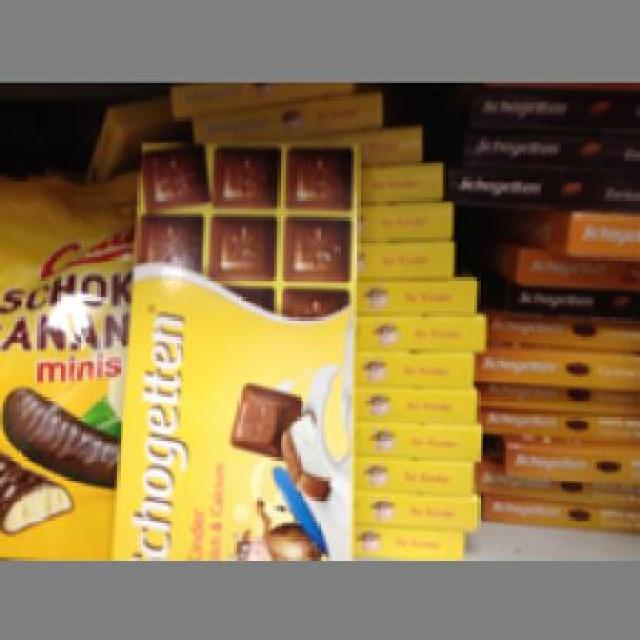Chocolate: (111, 137, 352, 557), (2, 172, 128, 558)
